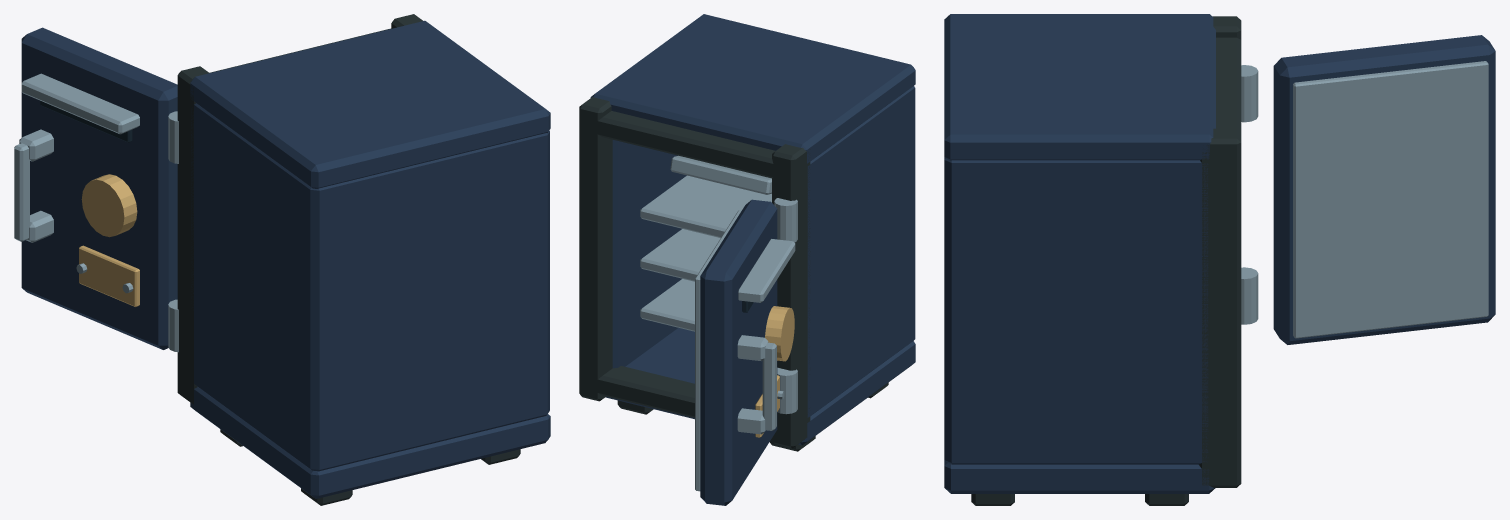
Rendered from restaurant_cash_drop_safe_opened.glb.
The picture shows the model from 3 angles, left to right: view 1: azimuth 30°, elevation 25°; view 2: azimuth 150°, elevation 25°; view 3: azimuth 270°, elevation 25°; orthographic projection. The views are drawn at different scales.
Visible parts, largest first — view 1: body_back_wall, body_side_wall (×2), body_roof, moving_door, body_floor, front_side_frame, moving_drop_canopy, moving_dial, moving_bank_id_plate, moving_handle_grip, moving_handle_mount (×2); view 2: body_side_wall (×2), body_roof, front_side_frame (×2), moving_door, interior_shelf (×3), front_cross_frame (×2), body_floor, moving_drop_canopy, cash_inner_drop_chute, hinge_pin (×2), moving_inner_panel, moving_handle_mount (×2) (+2 smaller); view 3: body_side_wall, moving_inner_panel, body_roof, front_side_frame (×2), moving_door, body_floor, body_back_wall, front_cross_frame, hinge_pin (×2).
Part boxes in pixels (x1,y1,x2,y2): body_back_wall: (300, 133, 547, 470); body_side_wall (×2): (191, 103, 549, 471); body_roof: (190, 20, 550, 188); moving_door: (21, 27, 177, 349); body_floor: (190, 387, 550, 498); front_side_frame: (177, 66, 209, 404); moving_drop_canopy: (21, 73, 139, 134); moving_dial: (81, 174, 137, 237); moving_bank_id_plate: (79, 245, 139, 306); moving_handle_grip: (14, 143, 29, 241); moving_handle_mount (×2): (19, 129, 53, 242); body_side_wall (×2): (612, 86, 915, 417); body_roof: (590, 14, 915, 163); front_side_frame (×2): (579, 97, 810, 448); moving_door: (700, 199, 777, 505); interior_shelf (×3): (640, 175, 771, 331); front_cross_frame (×2): (579, 111, 808, 439); body_floor: (605, 327, 915, 445); moving_drop_canopy: (738, 239, 795, 302); cash_inner_drop_chute: (670, 155, 771, 194); hinge_pin (×2): (774, 198, 797, 414); moving_inner_panel: (695, 210, 741, 491); moving_handle_mount (×2): (737, 335, 768, 434); body_side_wall: (944, 157, 1208, 464); moving_inner_panel: (1293, 61, 1488, 338); body_roof: (944, 14, 1215, 160); front_side_frame (×2): (1199, 16, 1241, 487); moving_door: (1273, 35, 1495, 344); body_floor: (944, 460, 1215, 493); body_back_wall: (944, 157, 973, 464); front_cross_frame: (1201, 37, 1241, 169); hinge_pin (×2): (1241, 65, 1258, 324).
Size of the model in its own units: 0.8792 by 0.958 by 1.26.
